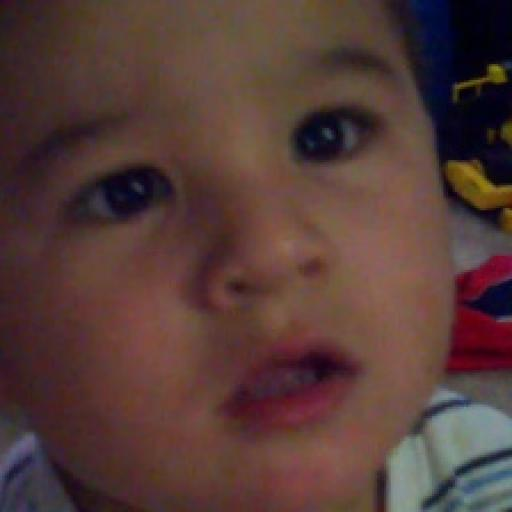Autism: (0, 4, 457, 490)
